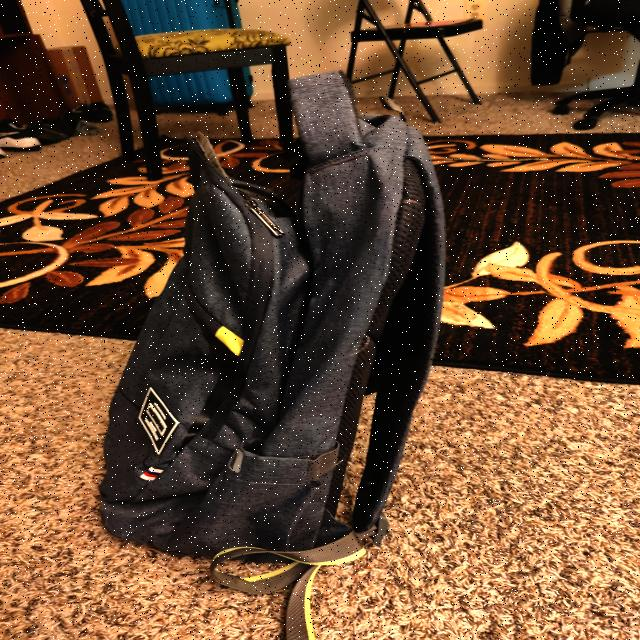bag: (115, 69, 452, 583)
